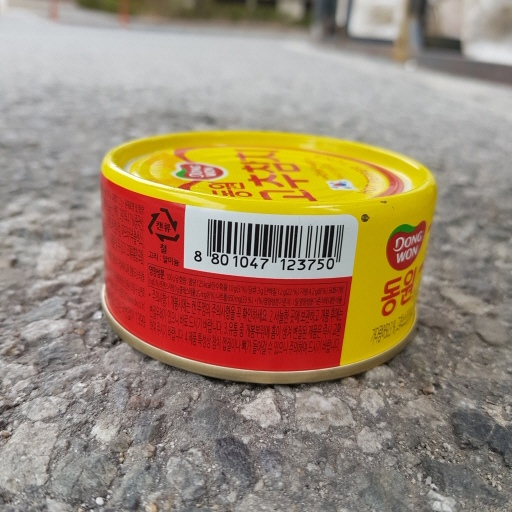Metal_1: (96, 129, 440, 386)
